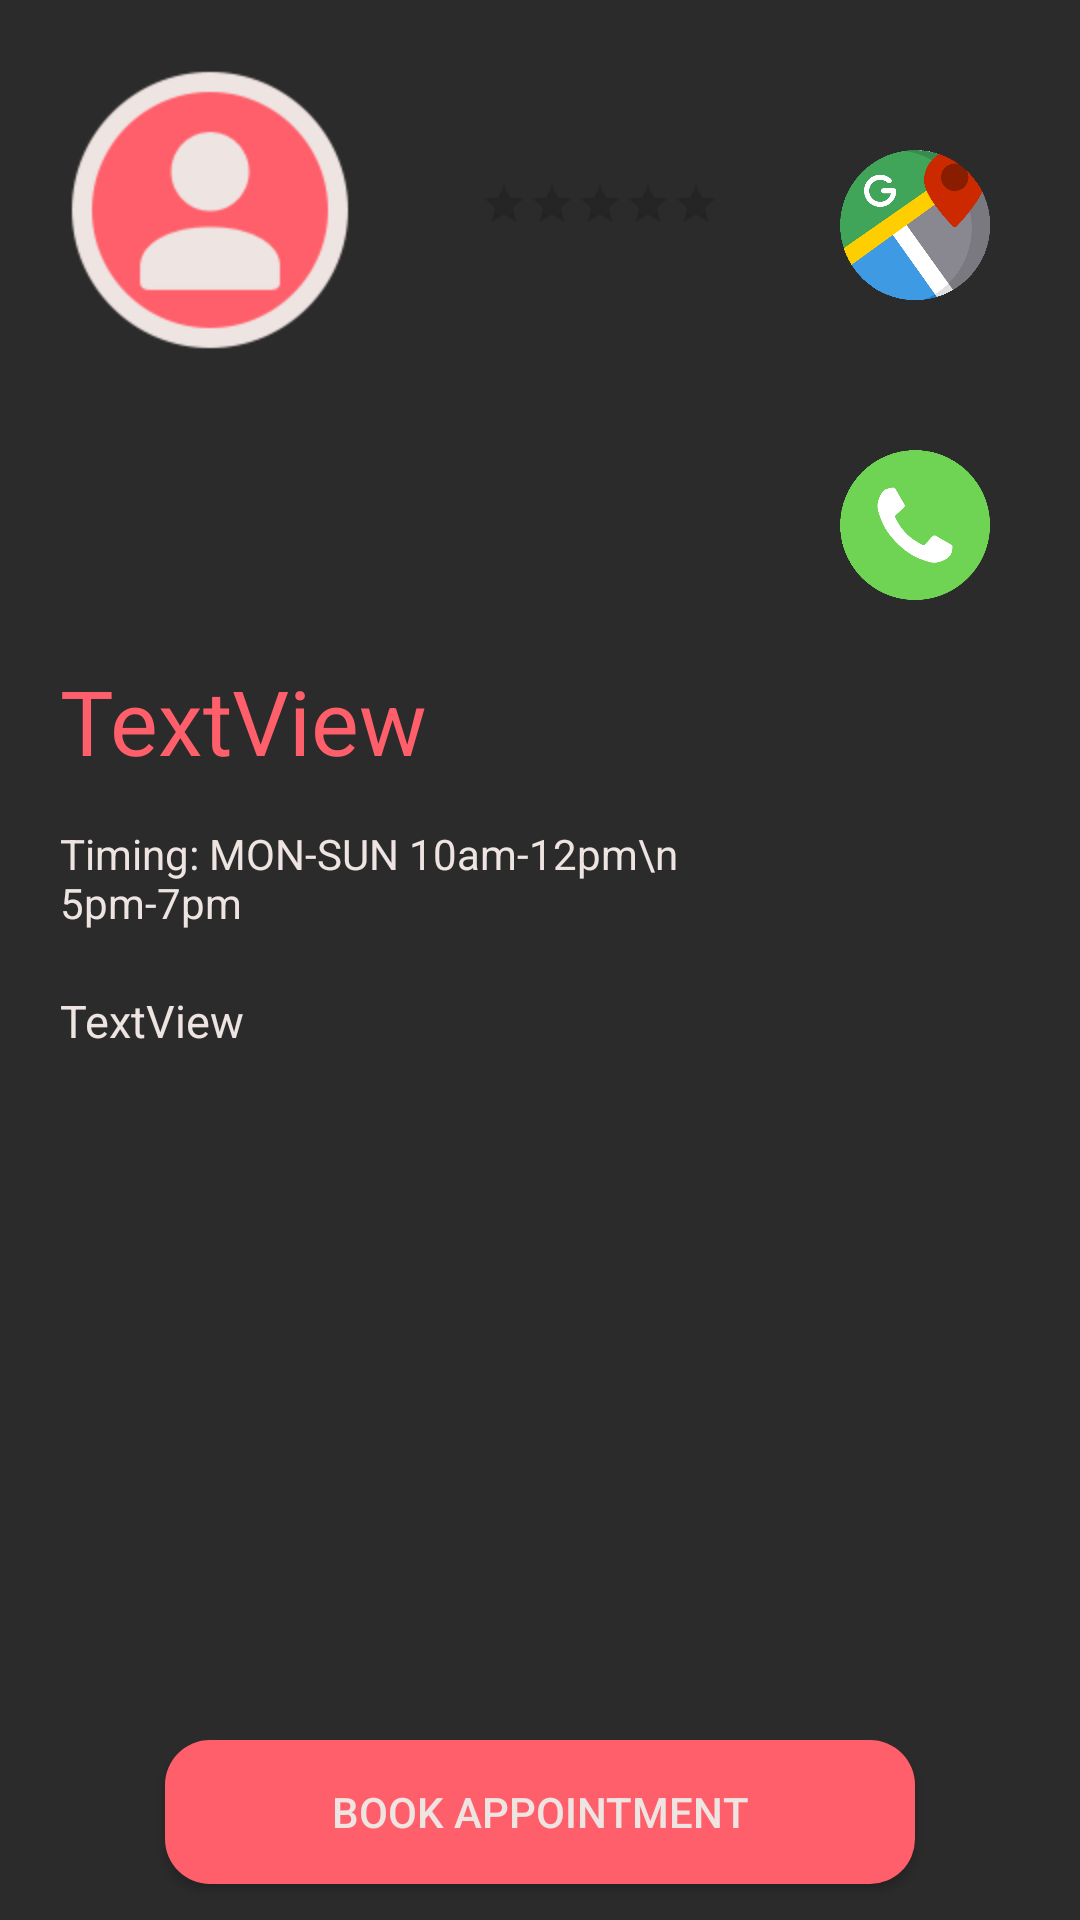

Where to tap for icons on this 1080 x 1920 app screen, as (x=x, y=y):
call: (x=915, y=525)
profile: (x=210, y=210)
